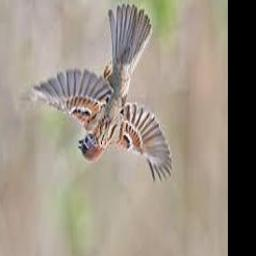Sparrow: (23, 4, 173, 185)
